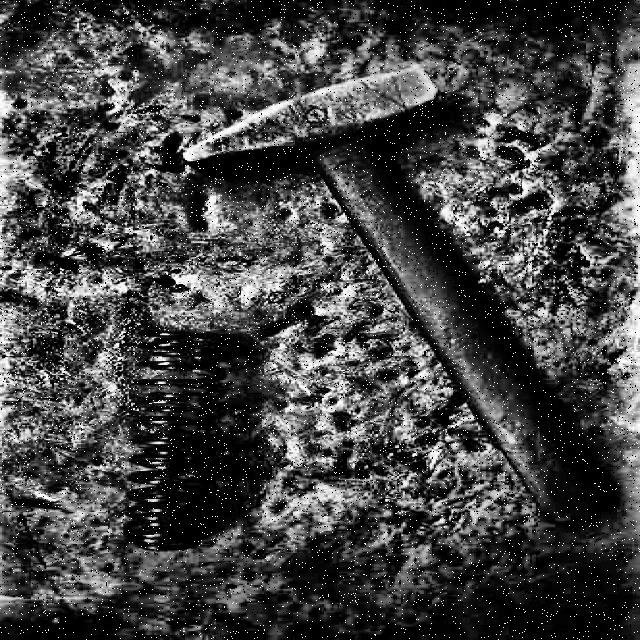hammer: (180, 62, 626, 526)
